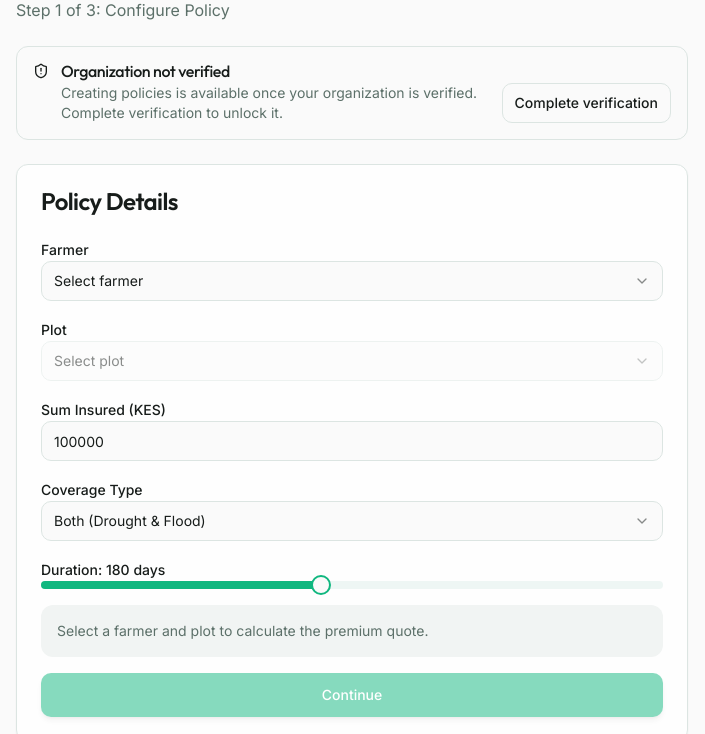
NewPolicyPage and the catalogue › shows a catalogue refusal from the quote in words
Click the dropdown labelled "Select farmer". click: [99, 280]
box: [41,261,663,301]
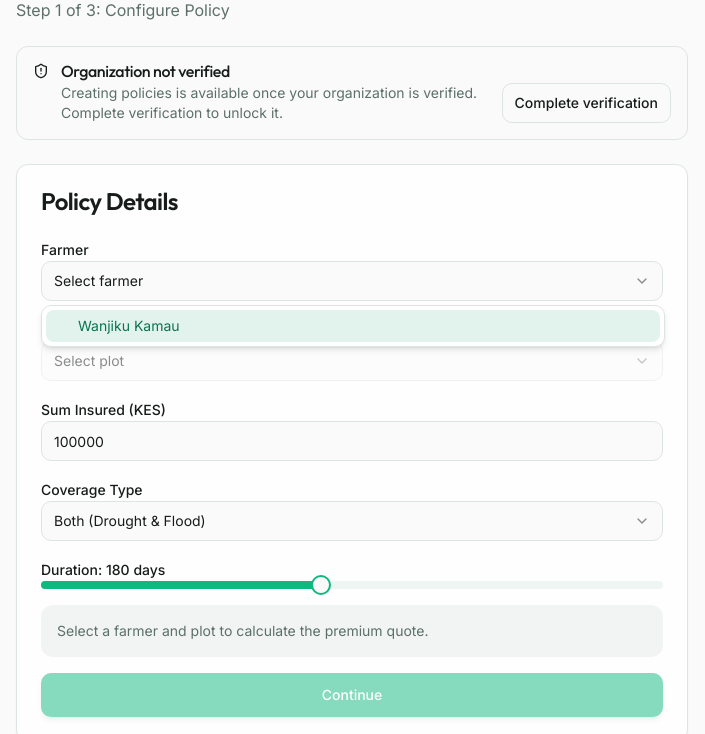
Click the option "Wanjiku Kamau". click: [104, 326]
box: [46,310,660,342]
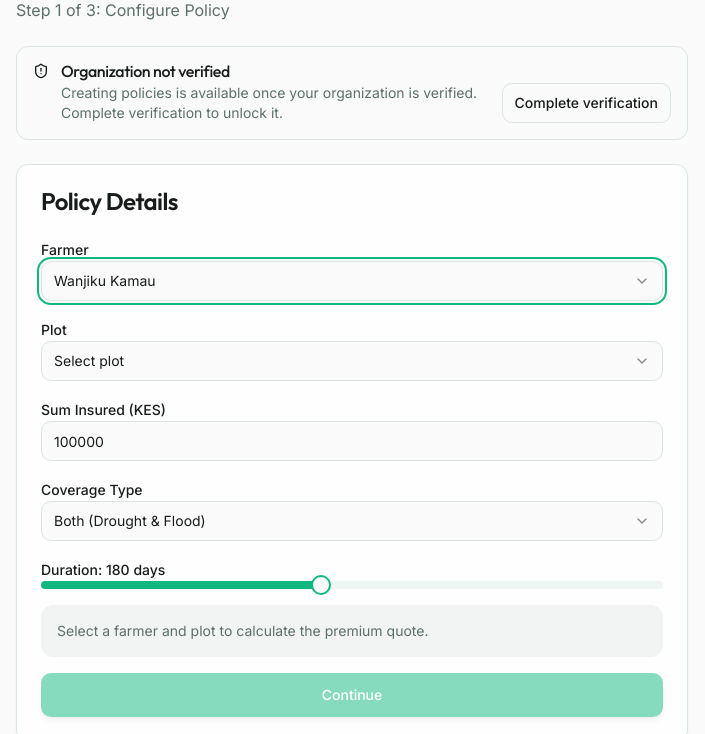
Click the dropdown labelled "Select plot". click: [89, 360]
box: [41,341,663,381]
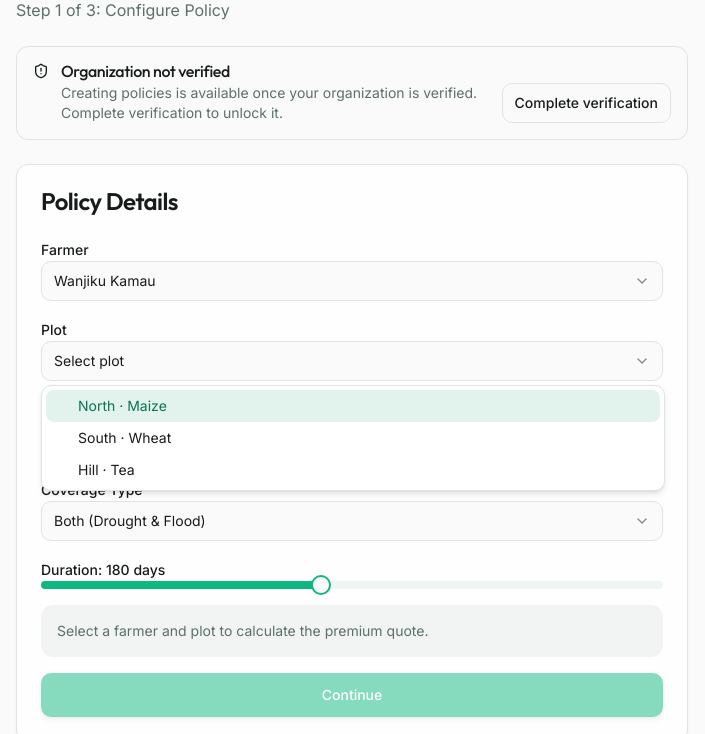
Click the option "North · Maize". click: [97, 406]
box: [46,390,660,422]
(page scrolled)
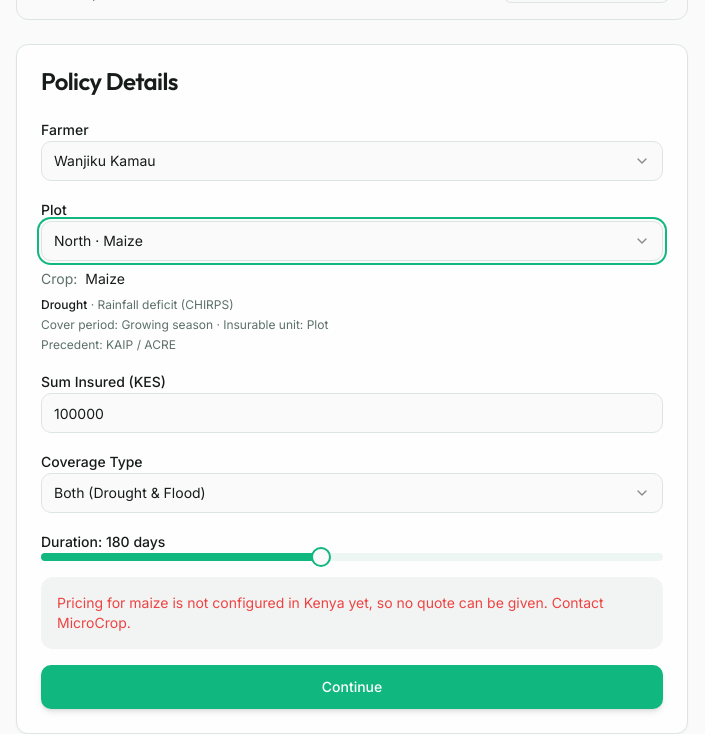
Now the text "Pricing for maize is not configured in Kenya yet" is shown, box [57,594,604,631]
